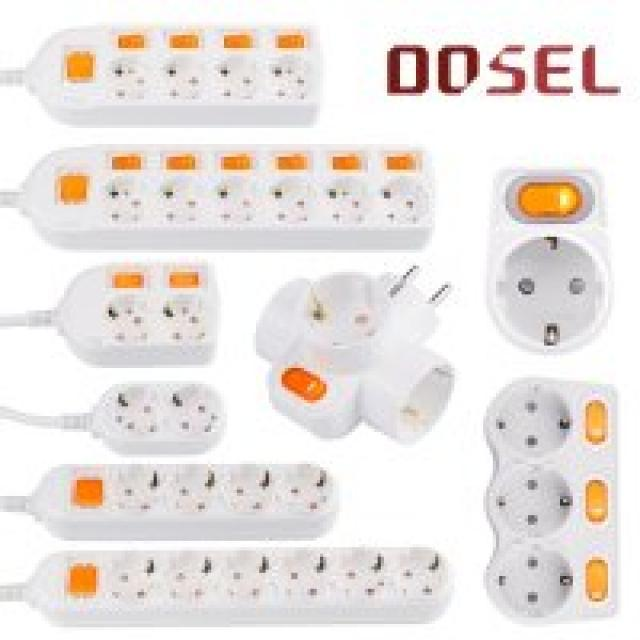typeb: (476, 377, 634, 632), (472, 142, 630, 358)
